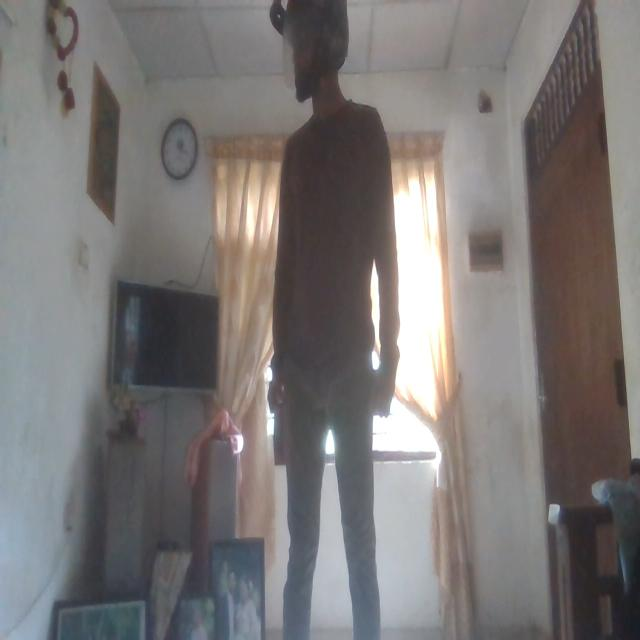Helmet_Wearer: (268, 0, 367, 108)
Person: (266, 0, 400, 640)
